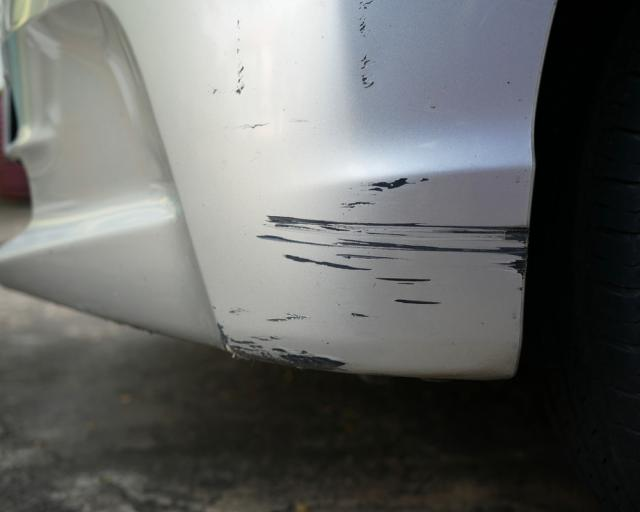scratch: (217, 171, 530, 371), (213, 7, 268, 143), (358, 0, 376, 89)
